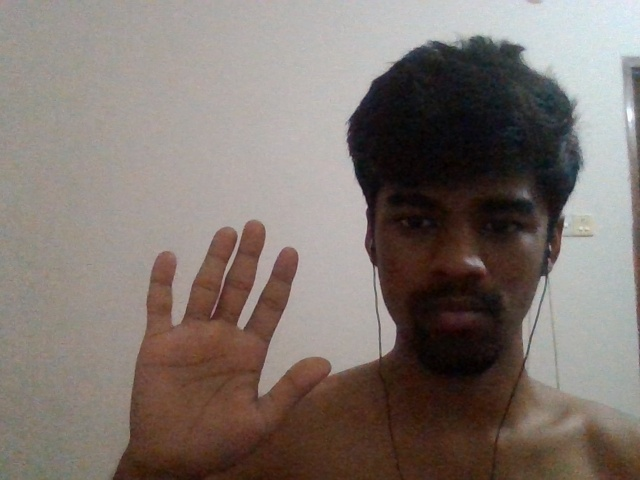Hello: (126, 213, 340, 471)
